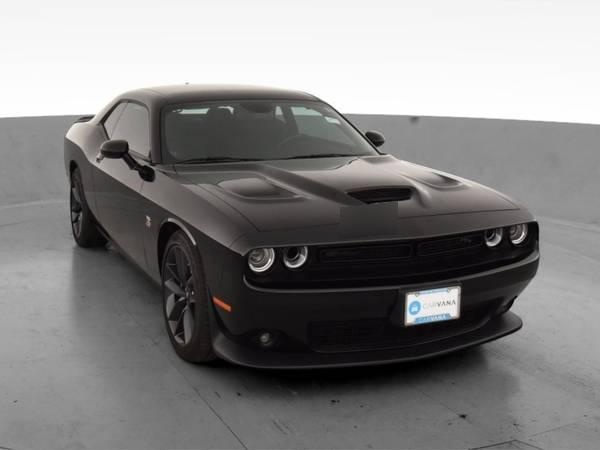Front_Bumper: (209, 248, 541, 367)
Front_Fender: (142, 164, 264, 281)
Front_Right_Door: (90, 141, 153, 269)
Front_Right_Window: (110, 98, 154, 164)
Front_Windshield: (165, 100, 388, 165)
Grille: (297, 230, 498, 288)
Hood: (174, 154, 536, 246)
Left_Headlight: (484, 222, 540, 267)
Rear_Fender: (63, 99, 126, 231)
Right_Headlight: (237, 242, 311, 291)
Roof: (95, 82, 325, 161)
Wheel: (158, 231, 210, 361), (70, 173, 112, 249)
